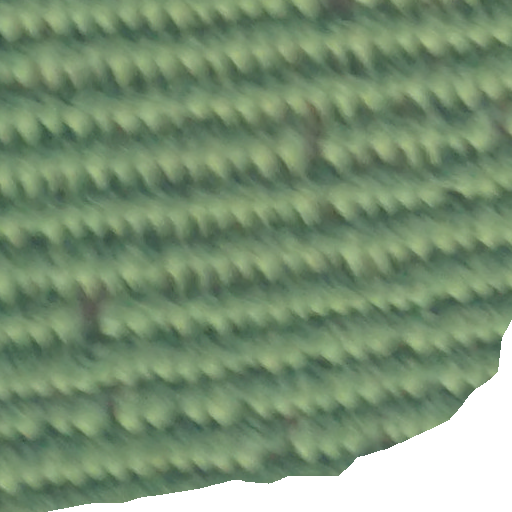eucalipto: (277, 125, 314, 178)
